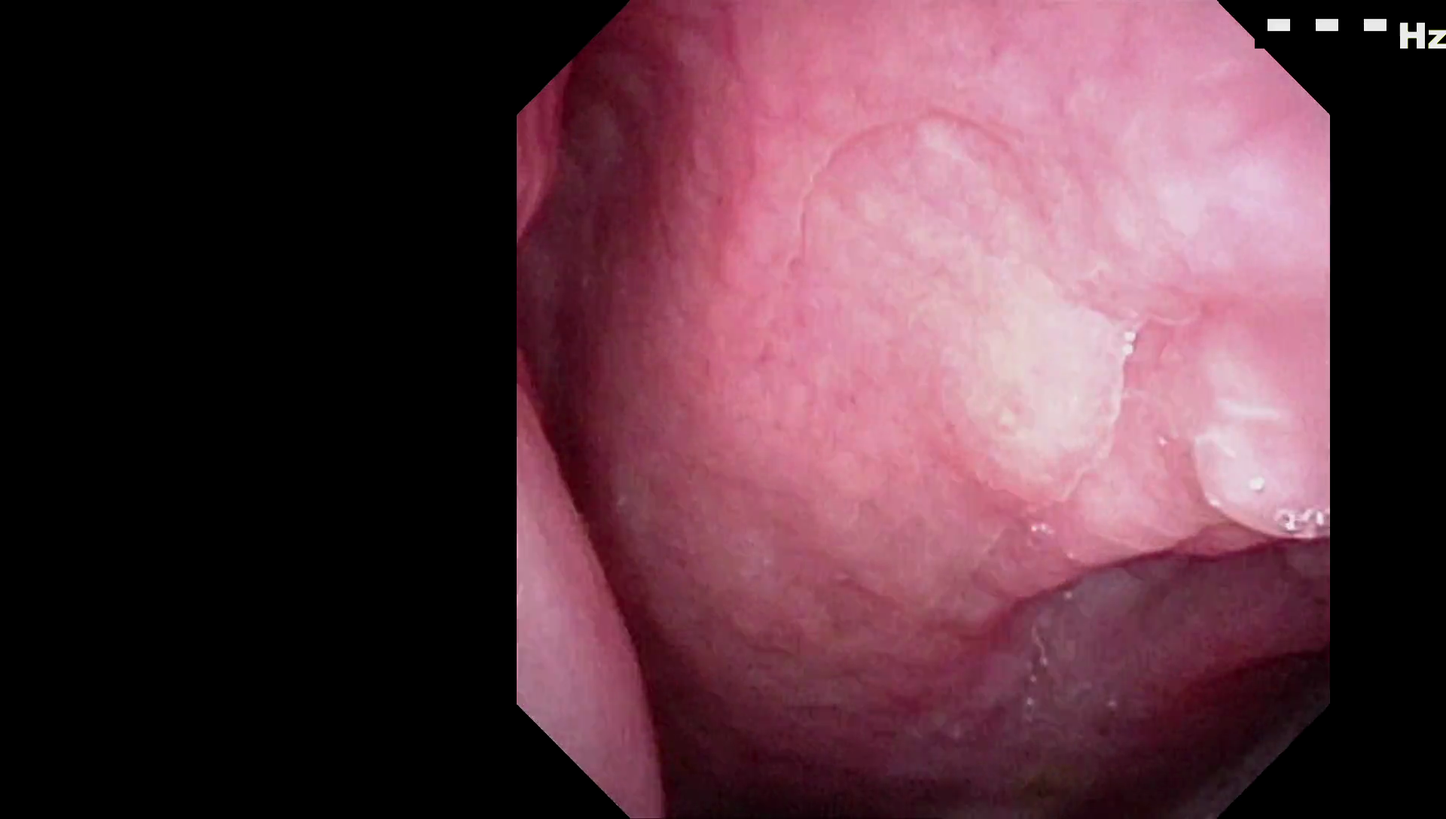close_wall: (651, 72, 1267, 578)
next: (623, 608, 944, 819)
